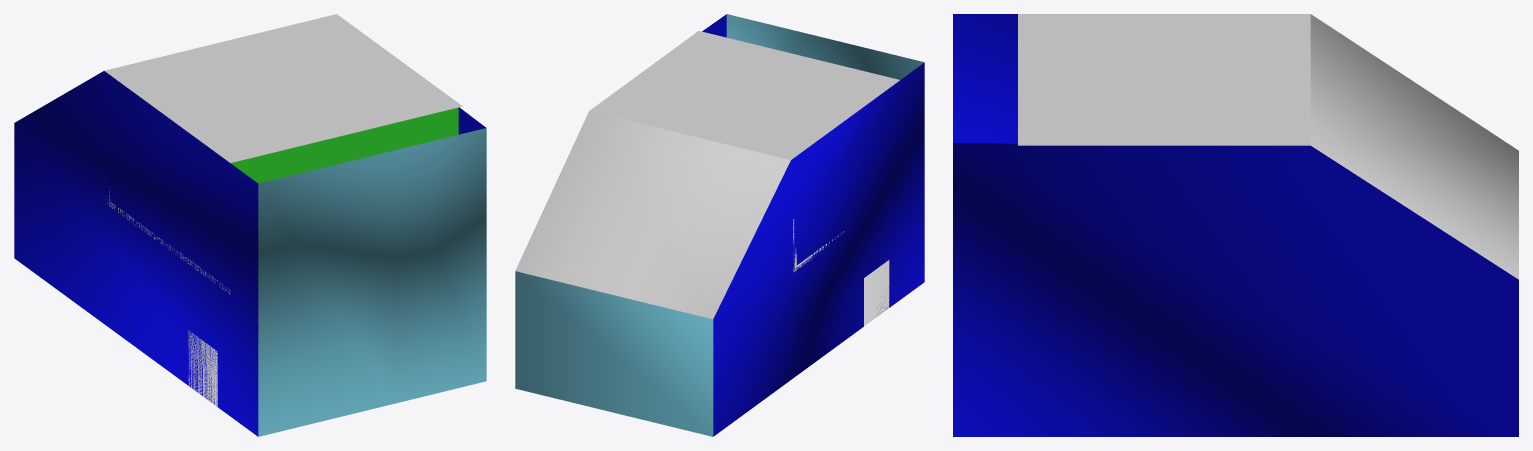
File: apartment.fbx
3 views of the same model, side by side, from view 1: azimuth 30°, elevation 25°; view 2: azimuth 150°, elevation 25°; view 3: azimuth 270°, elevation 25° (orthographic). The views are drawn at different scales.
Parts seen in each view (by area): view 1: Plane.001; view 2: Plane.001; view 3: Plane.001.
Part boxes in pixels (x1,y1,x2,y2): Plane.001: [14, 14, 486, 436]; Plane.001: [515, 14, 924, 436]; Plane.001: [953, 14, 1518, 436].
Size of the model in its own units: 488 by 508 by 886.
